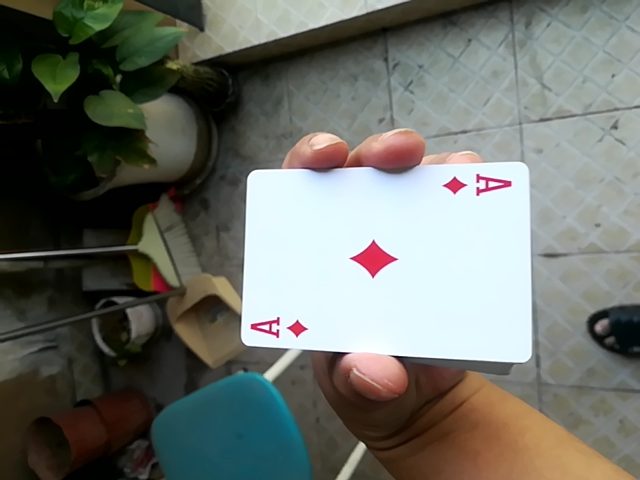fk a: (240, 155, 535, 374)
